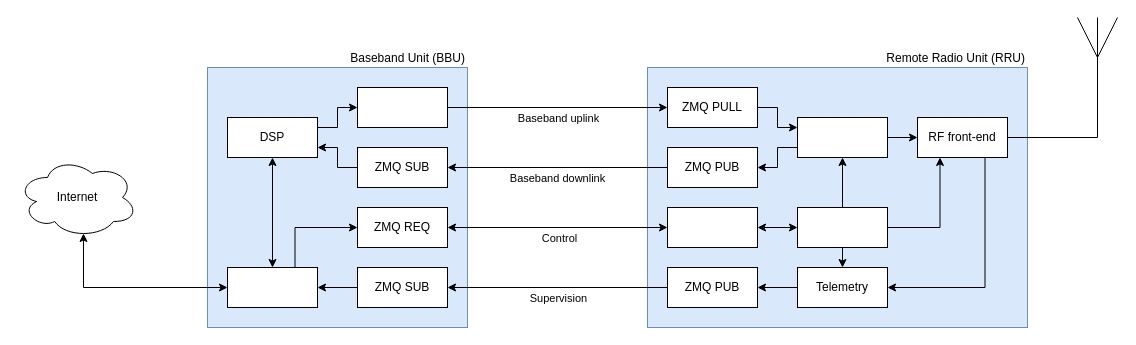
The diagram is 1136 pixels wide and 345 high, and some of its shapes have lost their labels. Each missing label, with the box of its shape:
Controller: (796, 206, 888, 248)
CPU: (226, 266, 318, 308)
RF IQ mod/demod: (796, 116, 888, 158)
ZMQ PUSH: (356, 86, 448, 128)
ZMQ REP: (666, 206, 758, 248)
